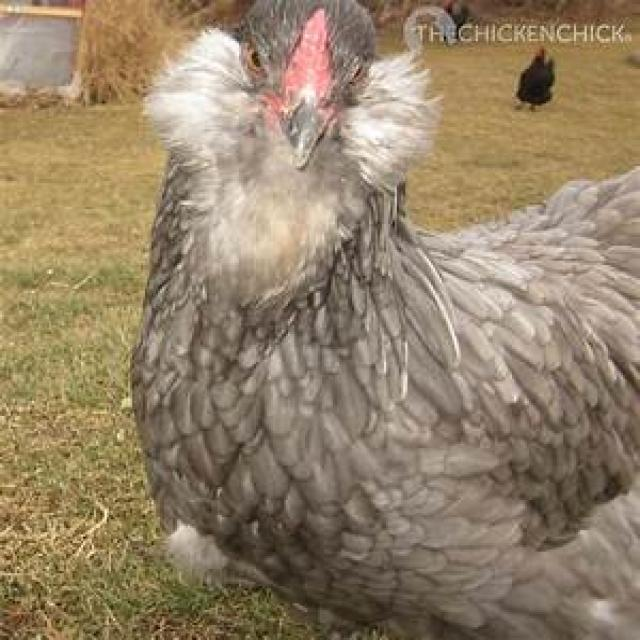hen: (128, 0, 640, 640)
